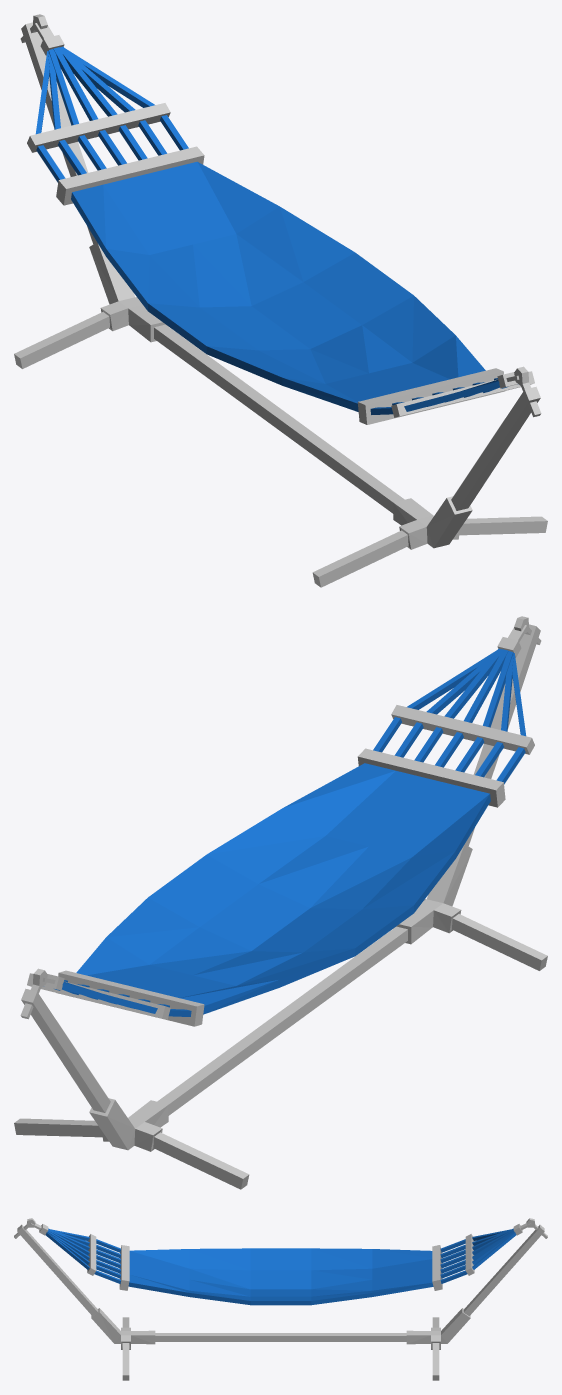
File: space_hammock.fbx
The picture shows the model from 3 angles, top to bottom: view 1: azimuth 30°, elevation 25°; view 2: azimuth 150°, elevation 25°; view 3: azimuth 270°, elevation 25°; orthographic projection. The views are drawn at different scales.
Parts seen in each view (by area): view 1: Cube_148; view 2: Cube_148; view 3: Cube_148.
Part boxes in pixels (x1=…): Cube_148: x1=14, y1=14, x2=547, y2=587; Cube_148: x1=14, y1=616, x2=547, y2=1189; Cube_148: x1=14, y1=1218, x2=547, y2=1380.
Bounding box in the file's own units: 93 × 99.53 × 362.
